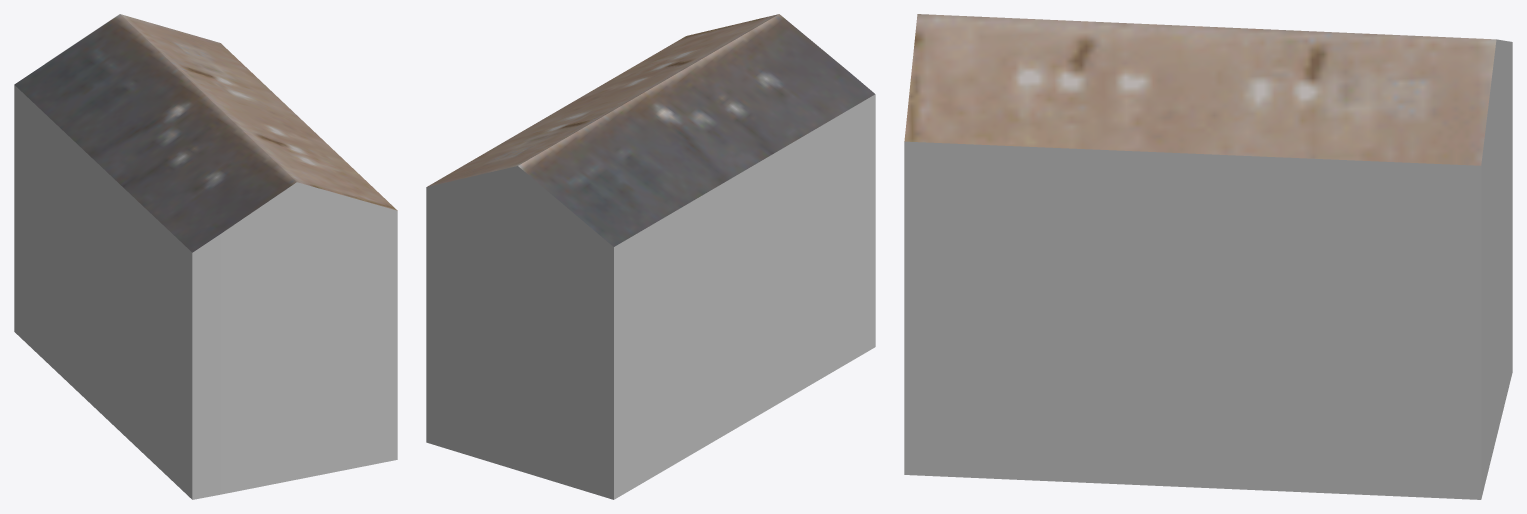
The model's file is DEBW_0010007TxiJ.gltf.
3 renders of one model, left to right at view 1: azimuth 30°, elevation 25°; view 2: azimuth 150°, elevation 25°; view 3: azimuth 270°, elevation 25°, orthographic. The views are drawn at different scales.
Visible parts, largest first — view 1: Z_UP; view 2: Z_UP; view 3: Z_UP.
Boxes of the visible parts, left/top/right/bottom form: Z_UP: left=14, top=14, right=397, bottom=499; Z_UP: left=426, top=14, right=875, bottom=499; Z_UP: left=904, top=14, right=1512, bottom=499.
Bounding box in the file's own units: 13.15 × 16.02 × 22.15.
2 materials, 1 textured.
